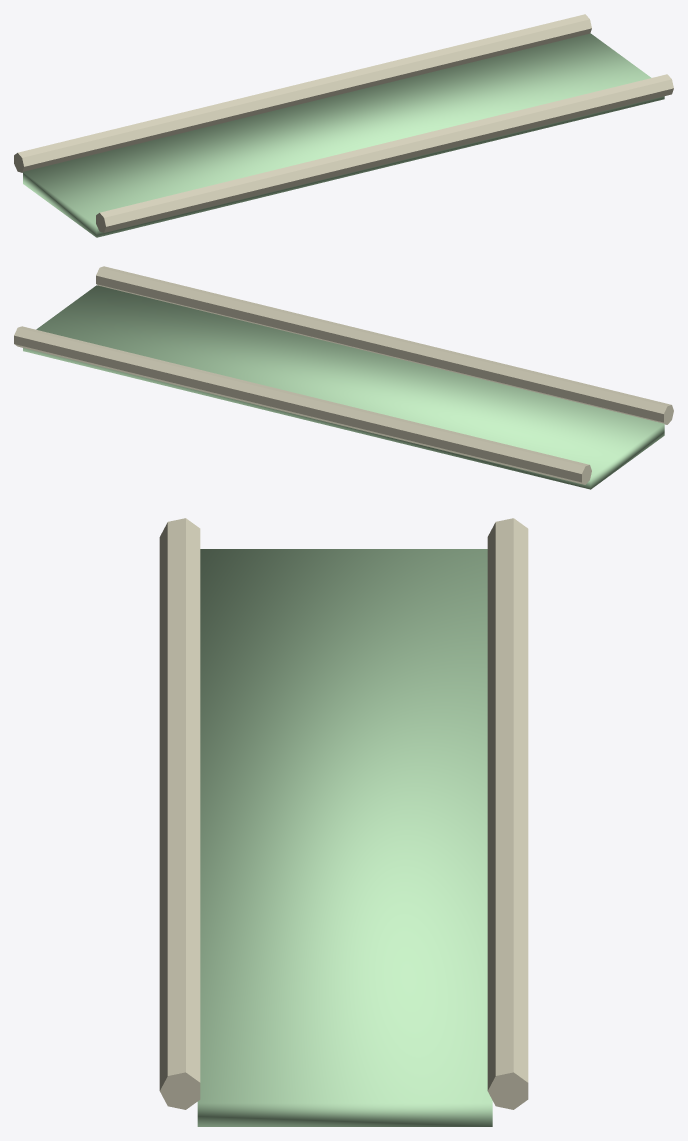
The model's file is route_flow_straight_a.obj.
3 renders of one model, top to bottom at view 1: azimuth 30°, elevation 25°; view 2: azimuth 150°, elevation 25°; view 3: azimuth 270°, elevation 25°, orthographic. The views are drawn at different scales.
Parts seen in each view (by area): view 1: route_flow_straight_a; view 2: route_flow_straight_a; view 3: route_flow_straight_a.
Part boxes in pixels (<box>): route_flow_straight_a: <box>14,14,673,237</box>; route_flow_straight_a: <box>14,266,673,489</box>; route_flow_straight_a: <box>159,518,528,1126</box>.
Size of the model in its own units: 4 by 0.1834 by 1.12.
